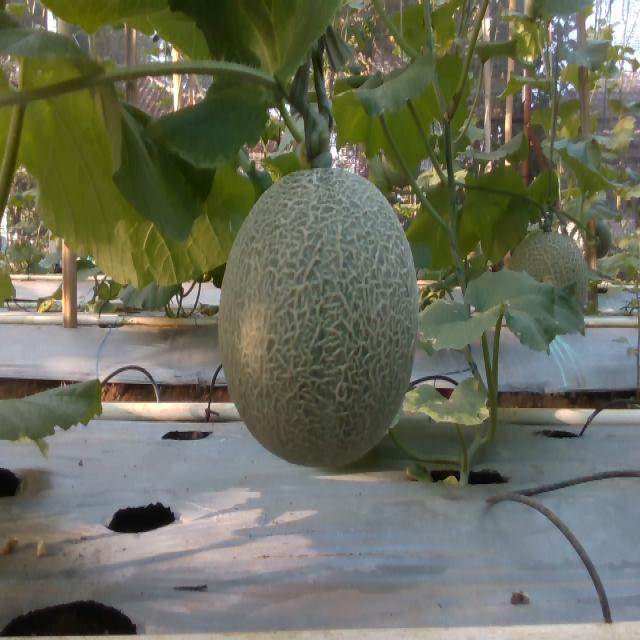melon: (219, 168, 419, 467)
